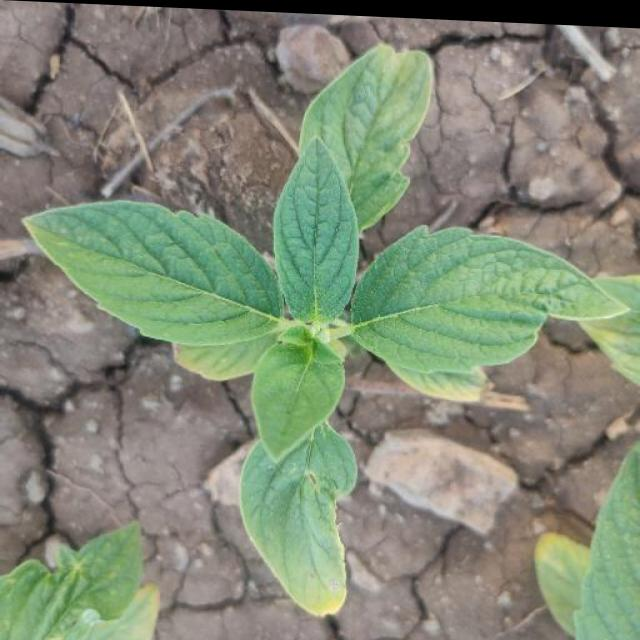crop: (22, 23, 632, 624)
